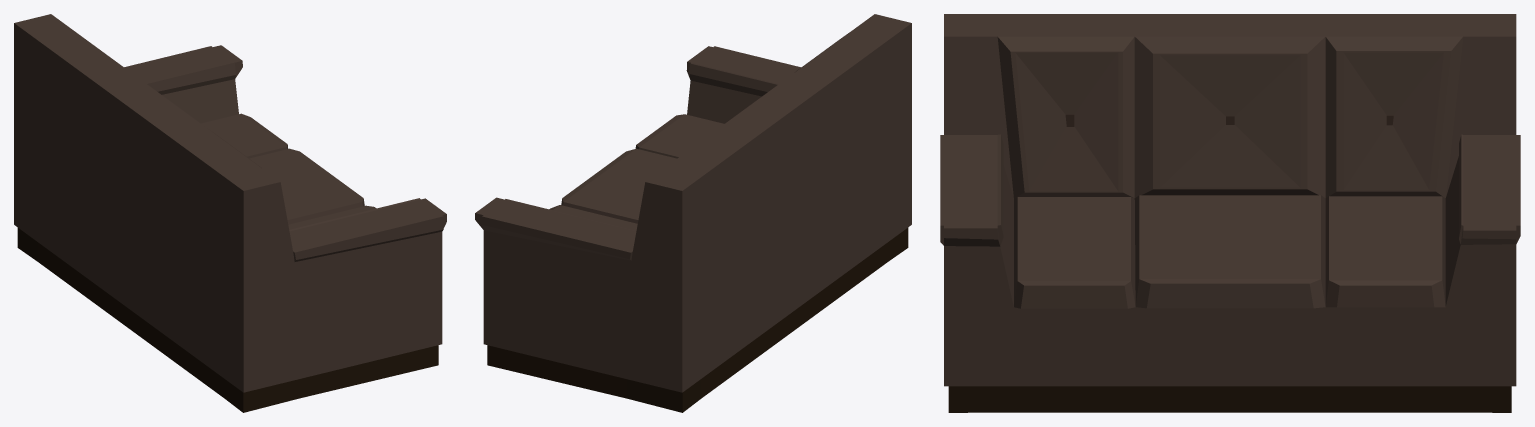
File: Sofa.fbx
The picture shows the model from 3 angles, left to right: view 1: azimuth 30°, elevation 25°; view 2: azimuth 150°, elevation 25°; view 3: azimuth 270°, elevation 25°; orthographic projection. The views are drawn at different scales.
Parts seen in each view (by area): view 1: Cube; view 2: Cube; view 3: Cube.
Part boxes in pixels (bbox=[...]): Cube: bbox=[14, 14, 446, 412]; Cube: bbox=[475, 14, 911, 412]; Cube: bbox=[940, 14, 1520, 412].
Bounding box in the file's own units: 209 × 215 × 405.
